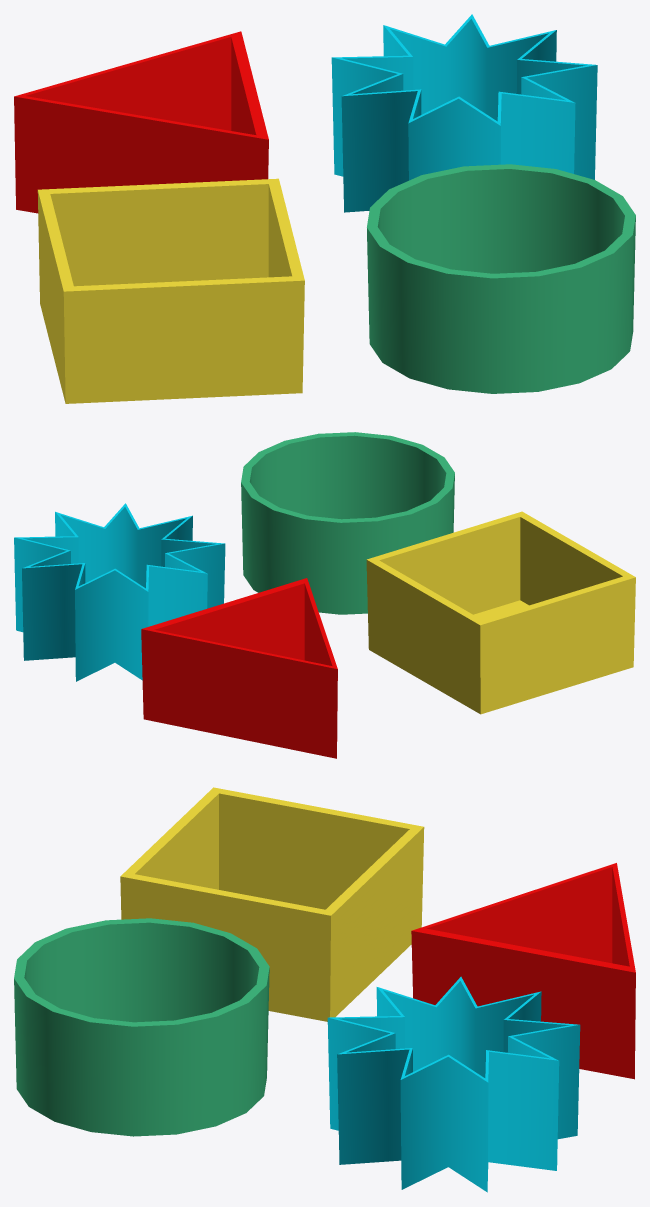
Rendered from 0e9c51a3-f0e3-40be-bbfa-ffd4580d64cd.glb.
The picture shows the model from 3 angles, top to bottom: view 1: azimuth 30°, elevation 25°; view 2: azimuth 150°, elevation 25°; view 3: azimuth 270°, elevation 25°; orthographic projection. The views are drawn at different scales.
Parts seen in each view (by area): view 1: Box001, Cylinder001, Cylinder002, Box002; view 2: Box001, Cylinder001, Box002, Cylinder002; view 3: Cylinder001, Box001, Cylinder002, Box002.
Part boxes in pixels (box(x1,y1,x2,y2)): Box001: box(37, 178, 304, 403); Cylinder001: box(367, 164, 635, 393); Cylinder002: box(331, 14, 597, 212); Box002: box(14, 31, 268, 213); Box001: box(366, 511, 635, 714); Cylinder001: box(241, 432, 454, 614); Box002: box(141, 578, 337, 758); Cylinder002: box(14, 503, 225, 681); Cylinder001: box(14, 918, 269, 1136); Box001: box(120, 787, 424, 1021); Cylinder002: box(327, 976, 580, 1192); Box002: box(411, 863, 635, 1079).
Size of the model in its own units: 500611 by 87606 by 445163.
